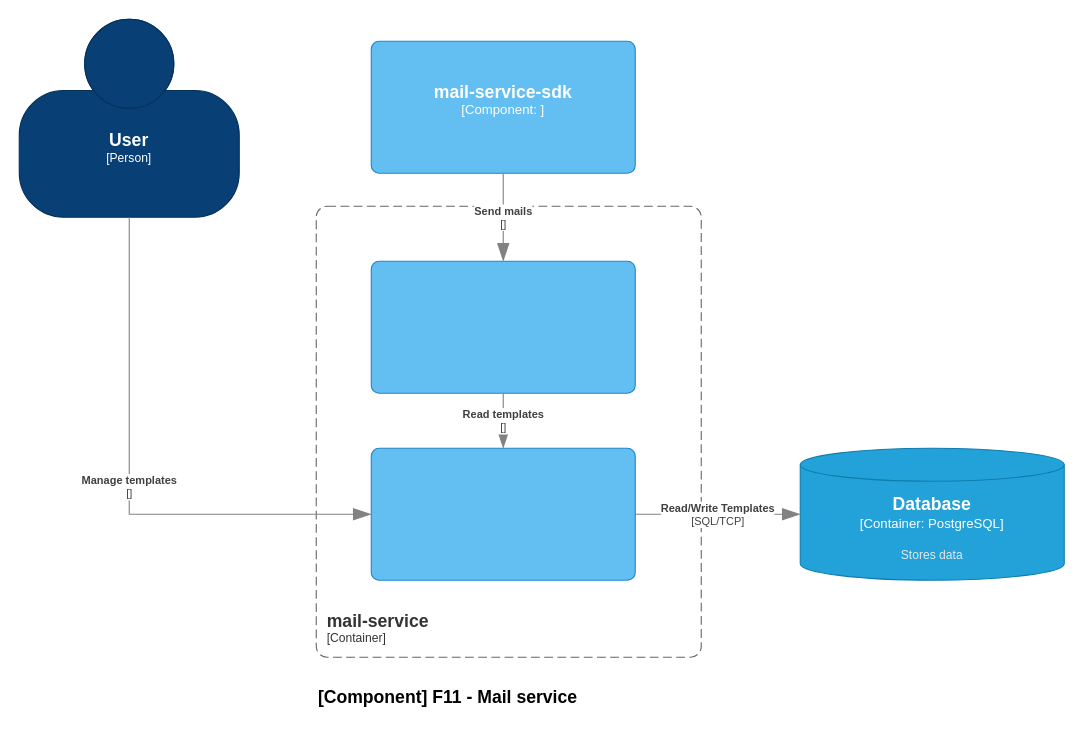
Image size: 1084x743. Some labels were removed from this diagram. The shapes that lost their labels are listed below. From the top down, each one's centre as x and y in pixels, then its label:
the point at 502,326: Mail [Component: ] Allows to send mails
the point at 502,513: template [Component: ] allows to create templates
